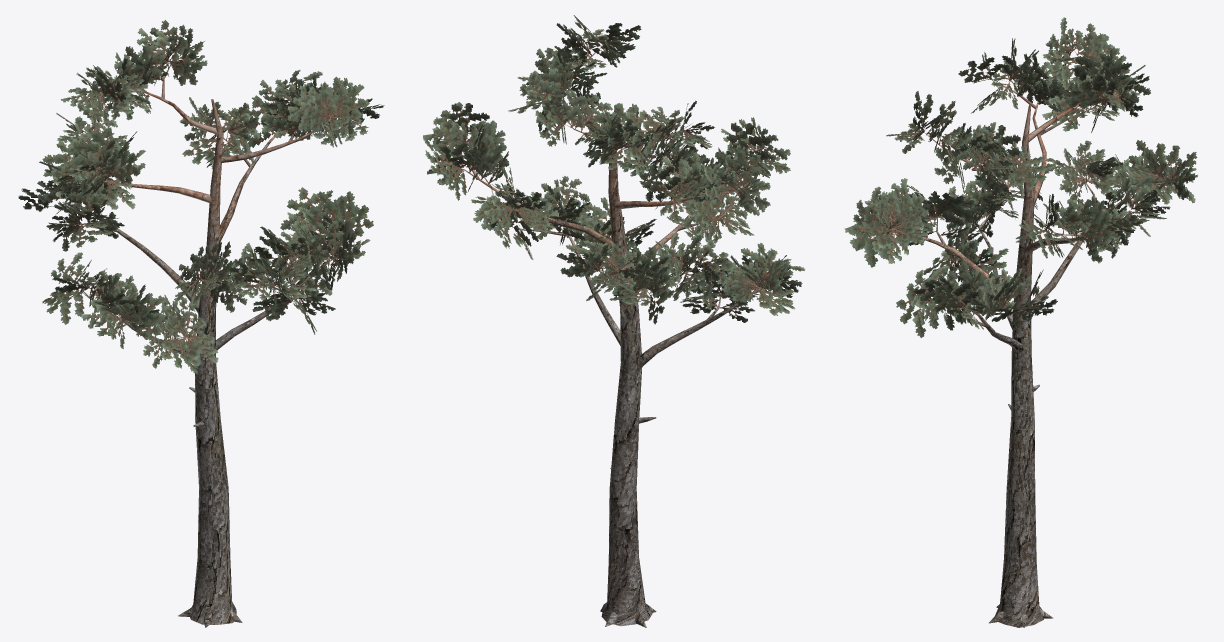
Rendered from scots-pine.glb.
3 renders of one model, left to right at view 1: azimuth 30°, elevation 25°; view 2: azimuth 150°, elevation 25°; view 3: azimuth 270°, elevation 25°, orthographic.
Parts seen in each view (by area): view 1: ScotsPine_FoldedNeedleSprays, ScotsPine_WoodyStructure; view 2: ScotsPine_FoldedNeedleSprays, ScotsPine_WoodyStructure; view 3: ScotsPine_FoldedNeedleSprays, ScotsPine_WoodyStructure.
Part boxes in pixels (x1,y1,x2,y2): ScotsPine_FoldedNeedleSprays: (18,20,384,373); ScotsPine_WoodyStructure: (59,60,338,627); ScotsPine_FoldedNeedleSprays: (423,15,805,324); ScotsPine_WoodyStructure: (451,47,760,627); ScotsPine_FoldedNeedleSprays: (844,17,1197,337); ScotsPine_WoodyStructure: (884,50,1163,627).
Bounding box in the file's own units: 9.08 × 13.64 × 8.23.
2 materials, 2 textured.
